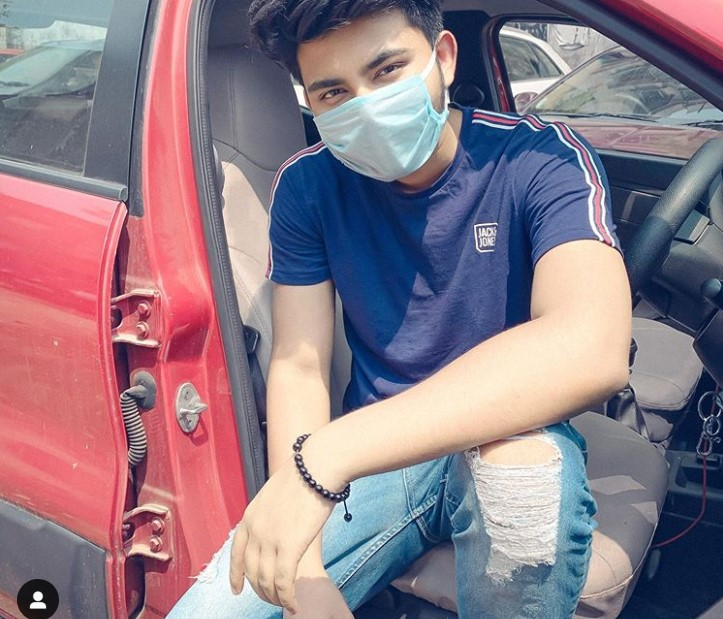face_with_mask: (295, 4, 459, 180)
